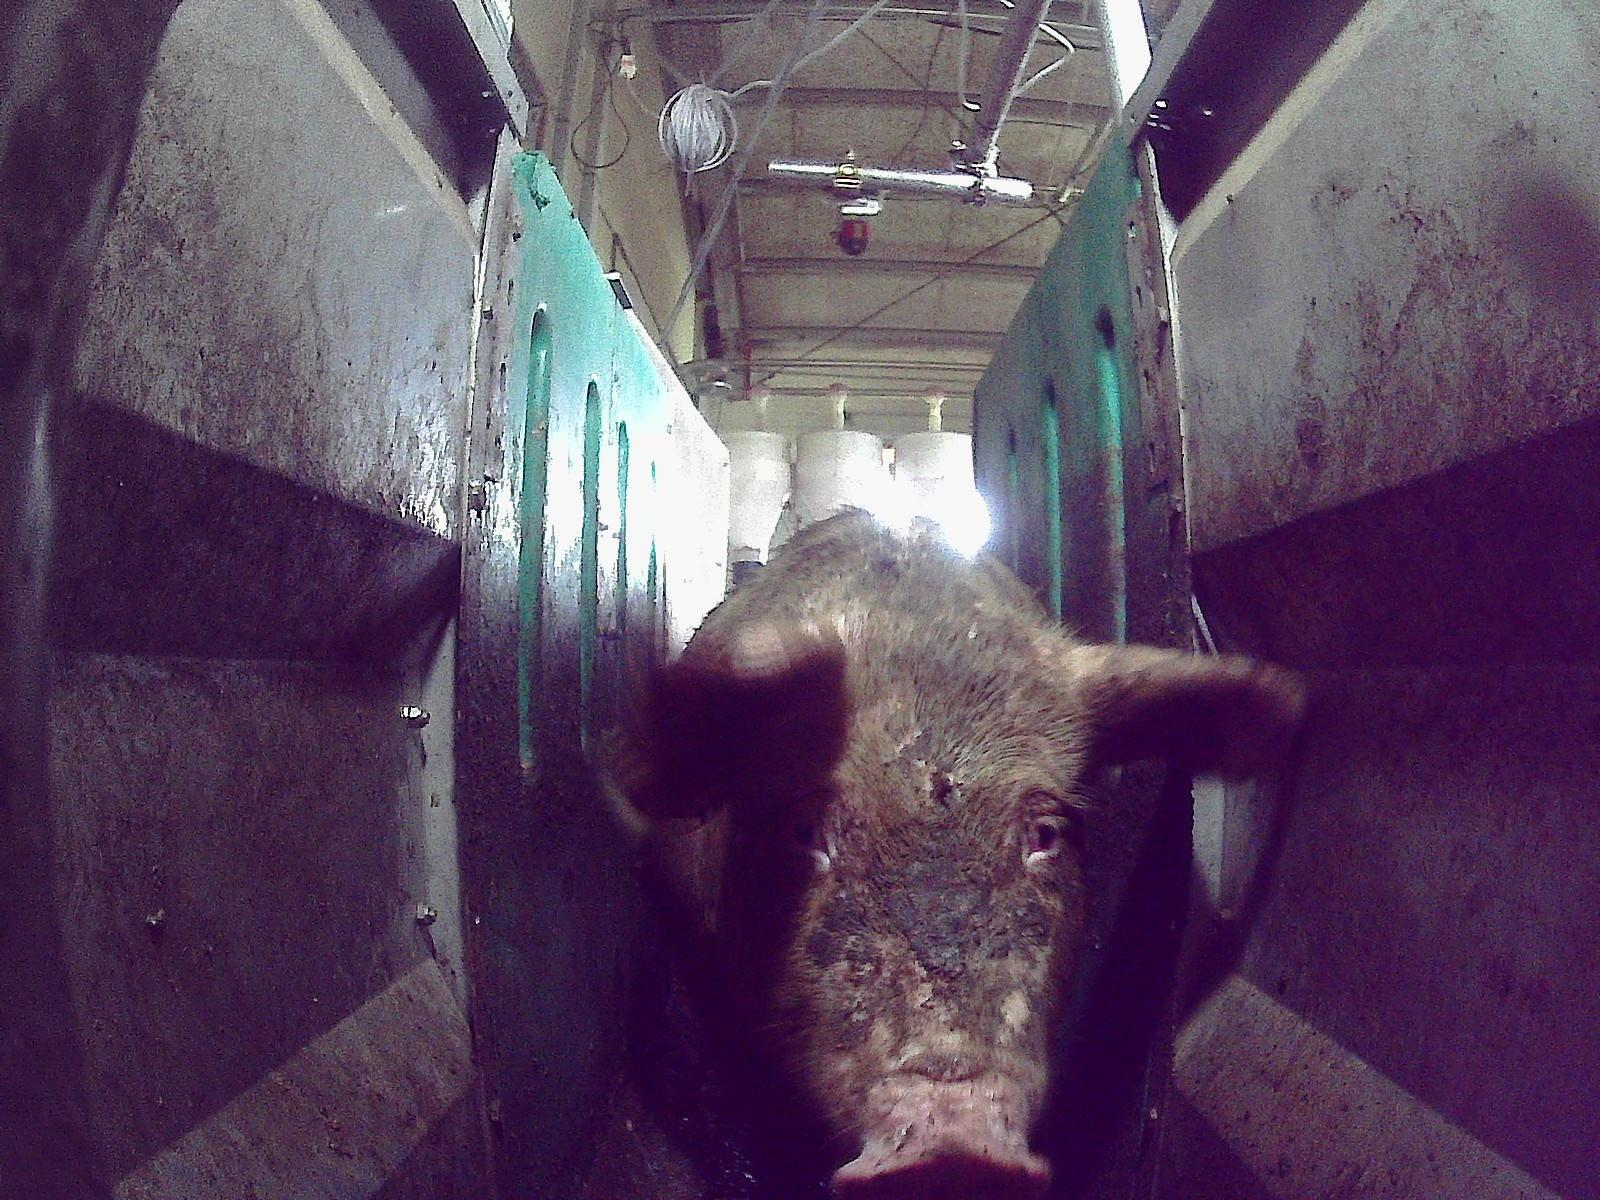Face: (726, 604, 1092, 1199)
